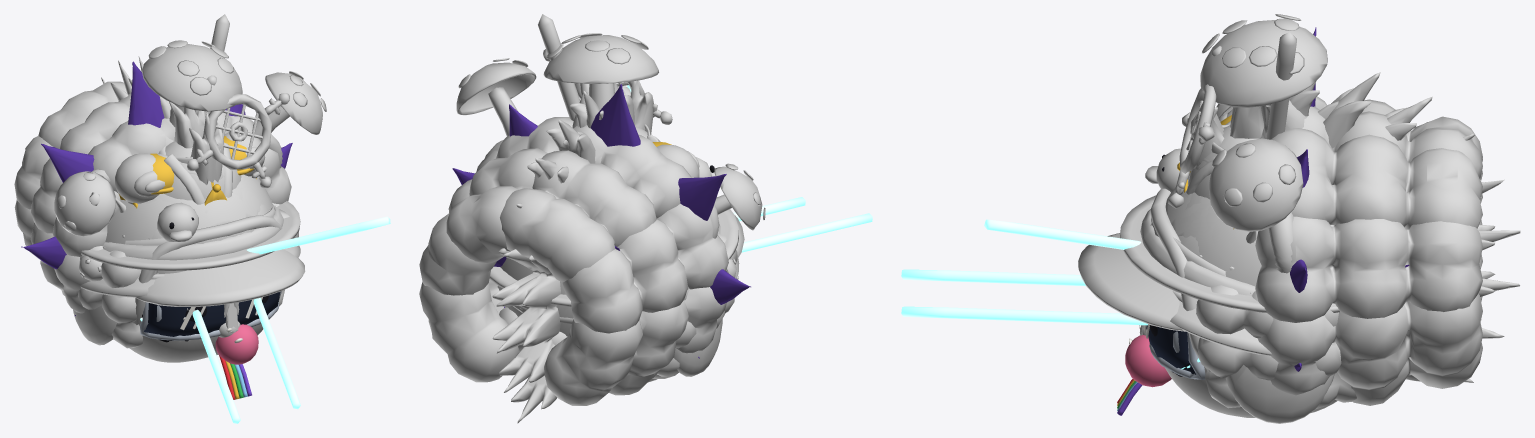
File: chog-traits-low.glb
3 views of the same model, side by side, from view 1: azimuth 30°, elevation 25°; view 2: azimuth 150°, elevation 25°; view 3: azimuth 270°, elevation 25° (orthographic). The views are drawn at different scales.
Visible parts, largest first — view 1: chog_Hat_rainbowWig, chog_Hat_shrooms, chog_Hat_cap, chog_Hat_seal, chog_Hat_ushanka, chog_Eyes_vrClassic, chog_Hat_spartan, chog_Hat_toadHood, chog_Hat_bob, chog_Hat_fedora, chog_Hair_full, chog_LaserBeams (+19 smaller); view 2: chog_Hat_rainbowWig, chog_Hat_shrooms, chog_Hat_spartan, chog_Hair_full, chog_LaserBeams, chog_Hair_crown, chog_Hat_bob, chog_Hat_fedora, chog_Hat_plunger, chog_Hat_ushanka, chog_Hat_toadHood, chog_Hat_seal; view 3: chog_Hat_rainbowWig, chog_Hat_shrooms, chog_Hat_spartan, chog_Hat_bob, chog_Hat_ushanka, chog_Hat_cap, chog_LaserBeams, chog_Hat_fedora, chog_Hat_seal, chog_Eyes_vrClassic, chog_Hat_astroHelmet, chog_BrowBeam (+13 smaller).
Part boxes in pixels (x1=…): chog_Hat_rainbowWig: x1=14, y1=81, x2=291, y2=313; chog_Hat_shrooms: x1=54, y1=40, x2=326, y2=281; chog_Hat_cap: x1=136, y1=249, x2=305, y2=306; chog_Hat_seal: x1=187, y1=75, x2=289, y2=188; chog_Hat_ushanka: x1=73, y1=204, x2=283, y2=345; chog_Eyes_vrClassic: x1=140, y1=291, x2=281, y2=340; chog_Hat_spartan: x1=101, y1=56, x2=238, y2=333; chog_Hat_toadHood: x1=107, y1=130, x2=271, y2=243; chog_Hat_bob: x1=63, y1=203, x2=298, y2=348; chog_Hat_fedora: x1=81, y1=201, x2=300, y2=270; chog_Hair_full: x1=21, y1=61, x2=292, y2=315; chog_LaserBeams: x1=192, y1=298, x2=300, y2=423; chog_Hat_rainbowWig: x1=419, y1=117, x2=728, y2=405; chog_Hat_shrooms: x1=456, y1=33, x2=765, y2=279; chog_Hat_spartan: x1=492, y1=80, x2=653, y2=423; chog_Hair_full: x1=454, y1=84, x2=749, y2=357; chog_LaserBeams: x1=733, y1=197, x2=872, y2=252; chog_Hair_crown: x1=452, y1=105, x2=750, y2=358; chog_Hat_bob: x1=499, y1=233, x2=737, y2=378; chog_Hat_fedora: x1=489, y1=197, x2=738, y2=306; chog_Hat_plunger: x1=538, y1=14, x2=580, y2=120; chog_Hat_ushanka: x1=673, y1=221, x2=722, y2=376; chog_Hat_toadHood: x1=512, y1=144, x2=699, y2=335; chog_Hat_seal: x1=543, y1=49, x2=672, y2=124; chog_Hat_rainbowWig: x1=1255, y1=96, x2=1482, y2=412; chog_Hat_shrooms: x1=1200, y1=14, x2=1327, y2=231; chog_Hat_spartan: x1=1140, y1=72, x2=1520, y2=382; chog_Hat_bob: x1=1196, y1=285, x2=1356, y2=409; chog_Hat_ushanka: x1=1140, y1=209, x2=1334, y2=423; chog_Hat_cap: x1=1078, y1=233, x2=1185, y2=331; chog_LaserBeams: x1=901, y1=269, x2=1147, y2=325; chog_Hat_fedora: x1=1120, y1=195, x2=1339, y2=312; chog_Hat_seal: x1=1168, y1=46, x2=1221, y2=208; chog_Eyes_vrClassic: x1=1144, y1=324, x2=1205, y2=379; chog_Hat_astroHelmet: x1=1150, y1=188, x2=1220, y2=371; chog_BrowBeam: x1=984, y1=219, x2=1141, y2=249.
Bounding box in the file's own units: 0.5013 × 0.5546 × 0.7605.
